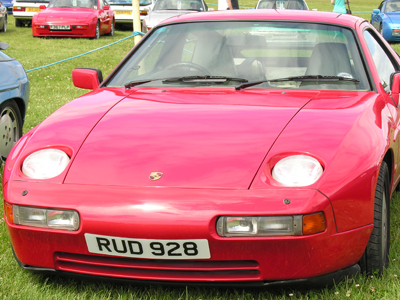licencePlate: (79, 231, 216, 261)
